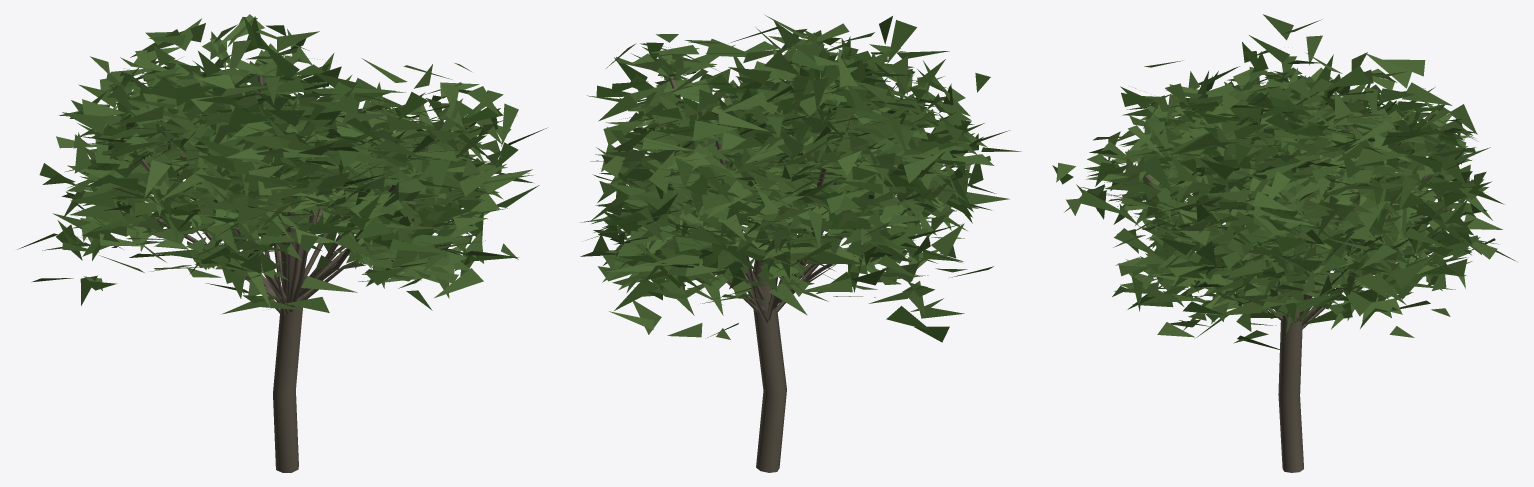
Rendered from molde-arbol.glb.
3 views of the same model, side by side, from view 1: azimuth 30°, elevation 25°; view 2: azimuth 150°, elevation 25°; view 3: azimuth 270°, elevation 25° (orthographic). The views are drawn at different scales.
Parts seen in each view (by area): view 1: molde broadleaf shade 5, molde broadleaf shade 3, molde broadleaf shade 0, molde broadleaf shade 6, molde broadleaf shade 1, molde broadleaf shade 2, molde broadleaf shade 4, molde tropical tree bark; view 2: molde broadleaf shade 0, molde broadleaf shade 6, molde broadleaf shade 1, molde broadleaf shade 2, molde broadleaf shade 5, molde broadleaf shade 4, molde broadleaf shade 3, molde tropical tree bark; view 3: molde broadleaf shade 0, molde broadleaf shade 2, molde broadleaf shade 5, molde broadleaf shade 6, molde broadleaf shade 1, molde broadleaf shade 4, molde broadleaf shade 3, molde tropical tree bark.
Part boxes in pixels (bbox=[...]): molde broadleaf shade 5: bbox=[67, 24, 533, 314]; molde broadleaf shade 3: bbox=[62, 31, 518, 298]; molde broadleaf shade 0: bbox=[17, 16, 546, 293]; molde broadleaf shade 6: bbox=[42, 14, 511, 307]; molde broadleaf shade 1: bbox=[56, 29, 499, 310]; molde broadleaf shade 2: bbox=[52, 23, 539, 312]; molde broadleaf shade 4: bbox=[58, 18, 507, 286]; molde tropical tree bark: bbox=[140, 75, 444, 472]; molde broadleaf shade 0: bbox=[593, 16, 1021, 342]; molde broadleaf shade 6: bbox=[595, 23, 976, 339]; molde broadleaf shade 1: bbox=[593, 20, 996, 318]; molde broadleaf shade 2: bbox=[587, 27, 991, 298]; molde broadleaf shade 5: bbox=[590, 15, 1009, 334]; molde broadleaf shade 4: bbox=[580, 33, 1010, 315]; molde broadleaf shade 3: bbox=[580, 27, 976, 315]; molde tropical tree bark: bbox=[669, 76, 893, 472]; molde broadleaf shade 0: bbox=[1052, 42, 1504, 351]; molde broadleaf shade 2: bbox=[1079, 60, 1486, 321]; molde broadleaf shade 5: bbox=[1086, 52, 1502, 337]; molde broadleaf shade 6: bbox=[1056, 35, 1498, 338]; molde broadleaf shade 1: bbox=[1076, 35, 1516, 343]; molde broadleaf shade 4: bbox=[1093, 14, 1490, 330]; molde broadleaf shade 3: bbox=[1064, 19, 1488, 325]; molde tropical tree bark: bbox=[1145, 101, 1446, 472].
Bounding box in the file's own units: 19.2 × 18.22 × 19.38.
